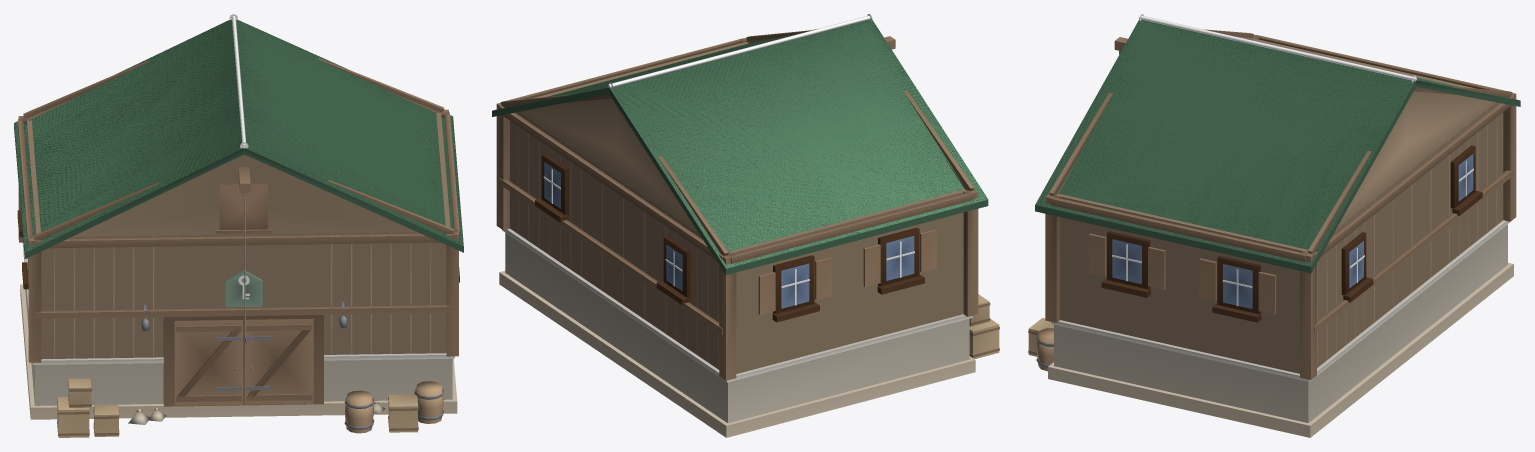
File: warehouse_hq.glb
The picture shows the model from 3 angles, left to right: view 1: azimuth 30°, elevation 25°; view 2: azimuth 150°, elevation 25°; view 3: azimuth 270°, elevation 25°; orthographic projection.
Visible parts, largest first — view 1: Ware_props, Ware_roof, Ware_stone, Ware_gold; view 2: Ware_props, Ware_roof, Ware_stone, Ware_gold; view 3: Ware_props, Ware_roof, Ware_stone, Ware_gold.
Boxes of the visible parts, left/top/right/bottom form: Ware_props: left=18, top=58, right=459, bottom=437; Ware_roof: left=14, top=19, right=463, bottom=258; Ware_stone: left=17, top=210, right=459, bottom=419; Ware_gold: left=27, top=14, right=249, bottom=299; Ware_props: left=496, top=30, right=999, bottom=380; Ware_roof: left=492, top=19, right=988, bottom=275; Ware_stone: left=499, top=153, right=975, bottom=437; Ware_gold: left=543, top=14, right=914, bottom=305; Ware_props: left=1028, top=29, right=1516, bottom=379; Ware_roof: left=1035, top=19, right=1520, bottom=273; Ware_stone: left=1048, top=145, right=1513, bottom=437; Ware_gold: left=1112, top=14, right=1473, bottom=306.
Size of the model in its own units: 12.1 by 6.97 by 11.02.
